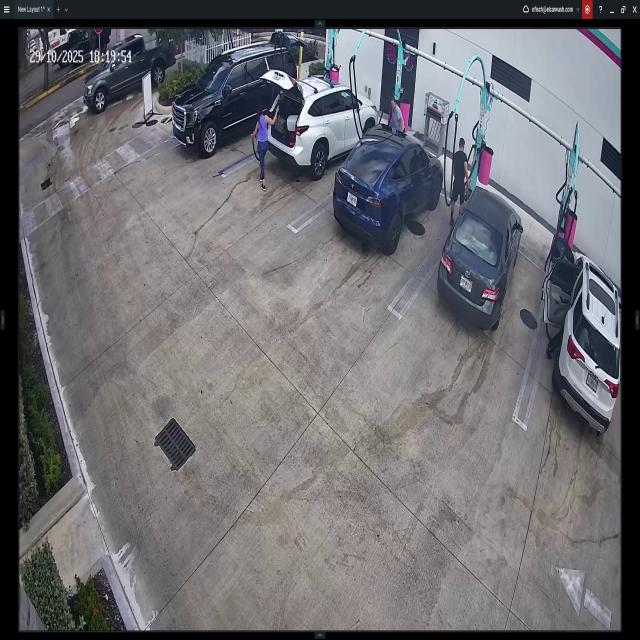Car: (550, 236, 621, 430), (336, 123, 444, 250), (174, 44, 296, 152), (439, 186, 523, 332), (262, 71, 378, 175), (84, 34, 176, 108)
